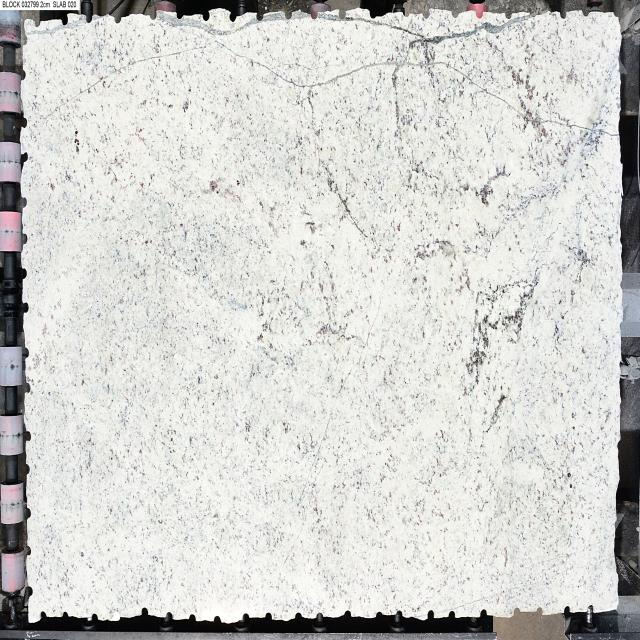chapa: (21, 10, 621, 623)
veio: (535, 603, 547, 619), (19, 194, 30, 210), (426, 607, 437, 623), (473, 7, 486, 20), (199, 7, 211, 21), (337, 6, 348, 21), (20, 264, 29, 282), (20, 300, 30, 316), (212, 614, 224, 627), (445, 609, 457, 622), (449, 7, 461, 20), (308, 8, 319, 22), (477, 606, 488, 620), (61, 12, 70, 28), (23, 380, 31, 398), (164, 609, 175, 622), (188, 611, 199, 624), (60, 610, 70, 624), (140, 604, 150, 618), (293, 607, 303, 621), (512, 604, 522, 618), (24, 428, 32, 445), (262, 612, 273, 624), (240, 610, 250, 623), (24, 505, 32, 521), (20, 150, 29, 164), (24, 543, 33, 557), (504, 11, 515, 22), (83, 14, 93, 26), (20, 230, 28, 245), (26, 583, 34, 598), (89, 610, 99, 622), (585, 602, 595, 614), (422, 8, 430, 22), (558, 10, 569, 20), (33, 18, 42, 30), (283, 9, 292, 21), (315, 609, 324, 621), (113, 12, 121, 25), (343, 608, 353, 618), (21, 32, 28, 46), (149, 8, 157, 20), (39, 610, 47, 621), (229, 12, 237, 22), (255, 10, 263, 20), (563, 604, 571, 614), (21, 68, 26, 80), (21, 116, 26, 128), (175, 11, 182, 19)
